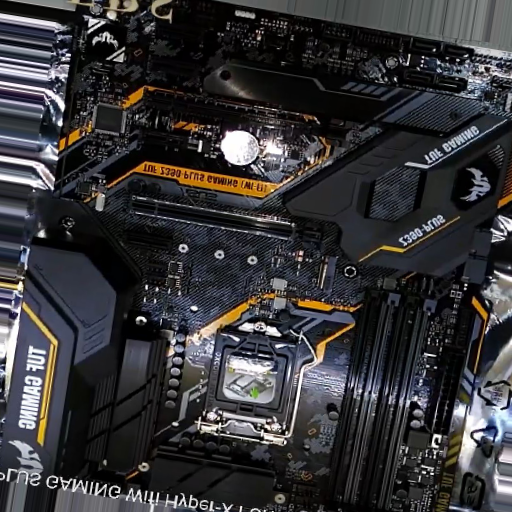CPU: (194, 317, 304, 446)
GPU: (142, 87, 349, 147), (130, 193, 319, 248)
MOTHERBOARD: (66, 1, 512, 510)
RAM: (326, 290, 438, 512)
SSD: (317, 255, 337, 295)
